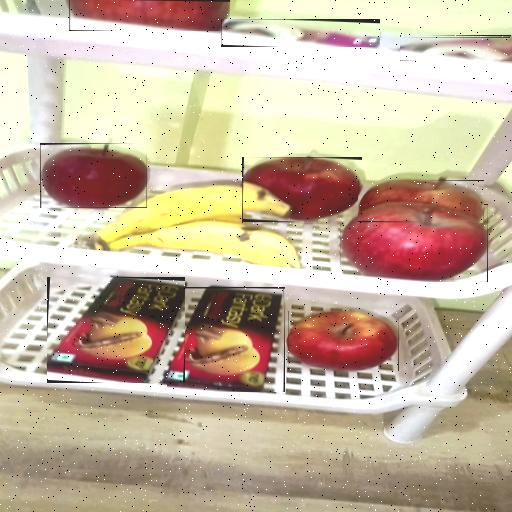Apple: (340, 204, 488, 282), (242, 158, 362, 224), (40, 143, 147, 208), (288, 311, 399, 371), (358, 180, 484, 222), (69, 0, 230, 31)
Choco Fills: (47, 277, 185, 383), (168, 287, 286, 392)
Choco Pie: (221, 19, 380, 47), (401, 38, 510, 61)
